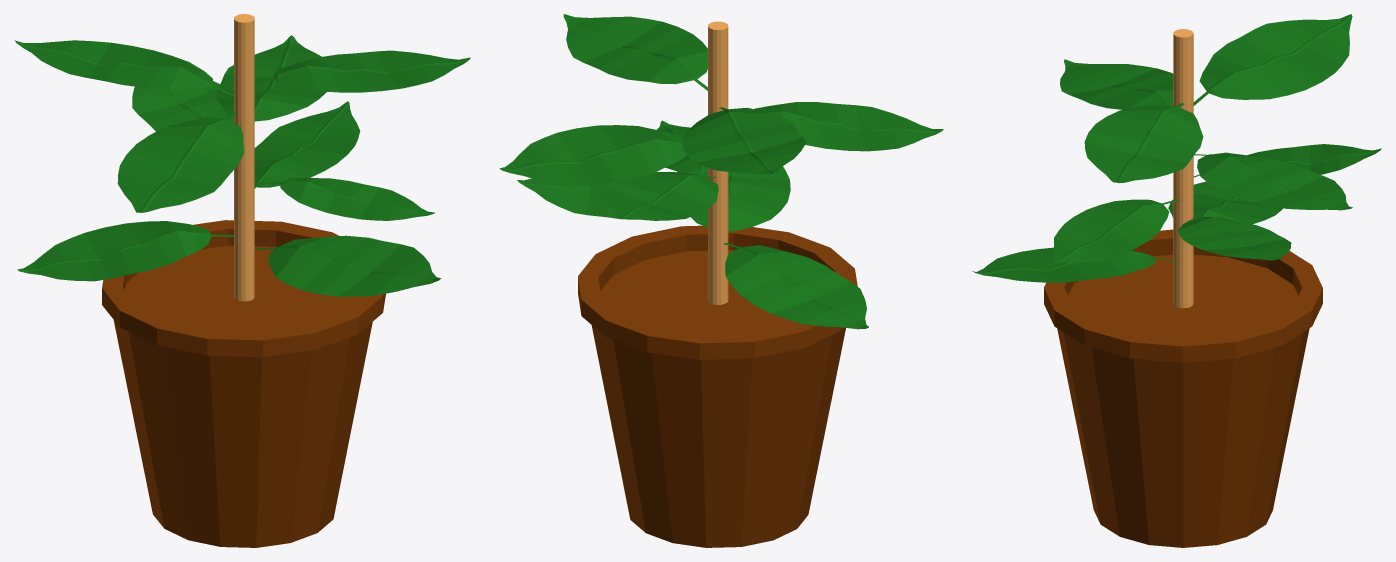
The model's file is vase.gltf.
3 views of the same model, side by side, from view 1: azimuth 30°, elevation 25°; view 2: azimuth 150°, elevation 25°; view 3: azimuth 270°, elevation 25° (orthographic). The views are drawn at different scales.
Visible parts, largest first — view 1: vase, vase_leaf.005, vase_leaf.007, vase_leaf, vase_leaf.004, vase_leaf.003, vase_branch, vase_leaf.006, vase_leaf.001, vase_leaf.008, vase_leaf.002; view 2: vase, vase_leaf.008, vase_leaf, vase_leaf.003, vase_leaf.004, vase_leaf.005, vase_leaf.002, vase_branch, vase_leaf.007, vase_leaf.006, vase_leaf.001; view 3: vase, vase_leaf.004, vase_leaf.003, vase_leaf.008, vase_leaf.001, vase_leaf.005, vase_branch, vase_leaf.007, vase_leaf.006, vase_leaf.002, vase_leaf.
Part boxes in pixels (x1,y1,x2,y2): vase: (102, 220, 385, 547); vase_leaf.005: (117, 113, 243, 212); vase_leaf.007: (254, 235, 440, 296); vase_leaf: (17, 221, 234, 281); vase_leaf.004: (14, 40, 233, 96); vase_leaf.003: (254, 50, 470, 92); vase_branch: (234, 14, 254, 301); vase_leaf.006: (254, 101, 360, 188); vase_leaf.001: (257, 178, 434, 220); vase_leaf.008: (216, 35, 326, 121); vase_leaf.002: (132, 81, 233, 131); vase: (578, 225, 857, 547); vase_leaf.008: (499, 125, 686, 186); vase_leaf: (723, 243, 868, 329); vase_leaf.003: (563, 14, 707, 90); vase_leaf.004: (682, 107, 806, 174); vase_leaf.005: (754, 102, 943, 151); vase_leaf.002: (605, 172, 718, 220); vase_branch: (708, 21, 728, 304); vase_leaf.007: (677, 166, 790, 231); vase_leaf.006: (517, 178, 709, 219); vase_leaf.001: (657, 120, 707, 176); vase: (1044, 229, 1322, 547); vase_leaf.004: (1193, 14, 1352, 105); vase_leaf.003: (1084, 103, 1203, 183); vase_leaf.008: (1194, 152, 1352, 210); vase_leaf.001: (1053, 199, 1179, 263); vase_leaf.005: (1060, 59, 1173, 109); vase_branch: (1173, 29, 1193, 308); vase_leaf.007: (972, 247, 1179, 282); vase_leaf.006: (1178, 217, 1291, 260); vase_leaf.002: (1193, 144, 1381, 177); vase_leaf: (1168, 181, 1282, 224).
Size of the model in its own units: 1.45 by 1.78 by 1.39.
